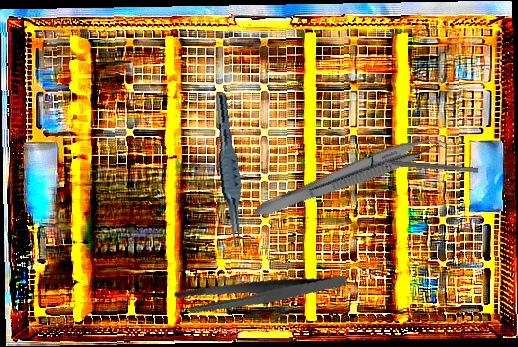Dressing Forceps: (171, 252, 348, 334)
Fixation Ring: (367, 154, 479, 179)
Tissue Forceps: (250, 124, 453, 231), (206, 92, 251, 249)
